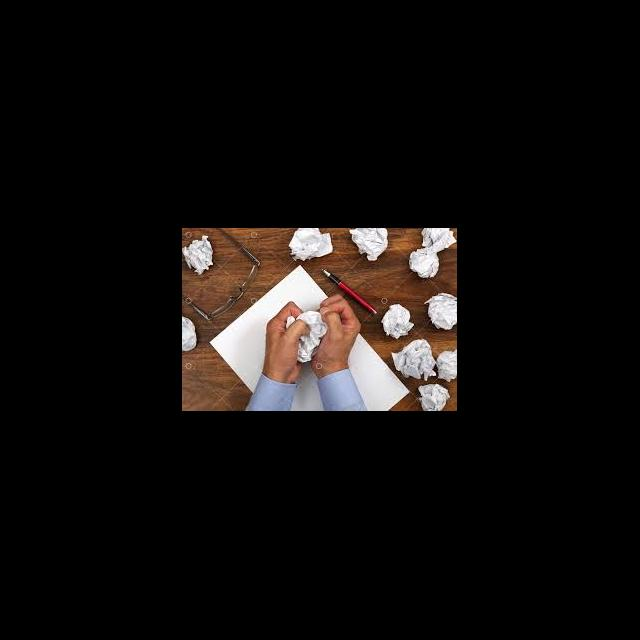paper: (208, 264, 408, 411), (286, 308, 326, 364), (390, 338, 434, 382), (288, 228, 332, 262), (349, 228, 388, 262), (424, 292, 456, 330), (182, 234, 214, 272), (382, 302, 412, 338), (408, 248, 438, 278), (418, 382, 450, 410), (421, 228, 456, 250), (434, 348, 456, 382), (182, 314, 195, 352)
